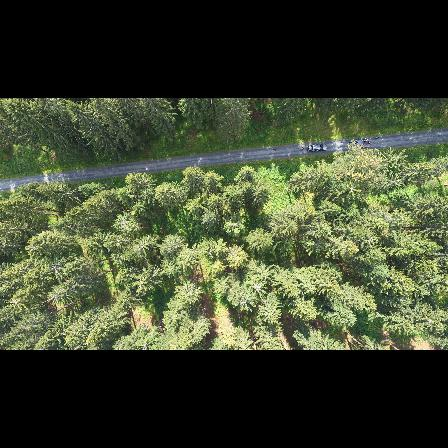Sick: (47, 257, 66, 278), (22, 240, 40, 259), (8, 294, 25, 313)
